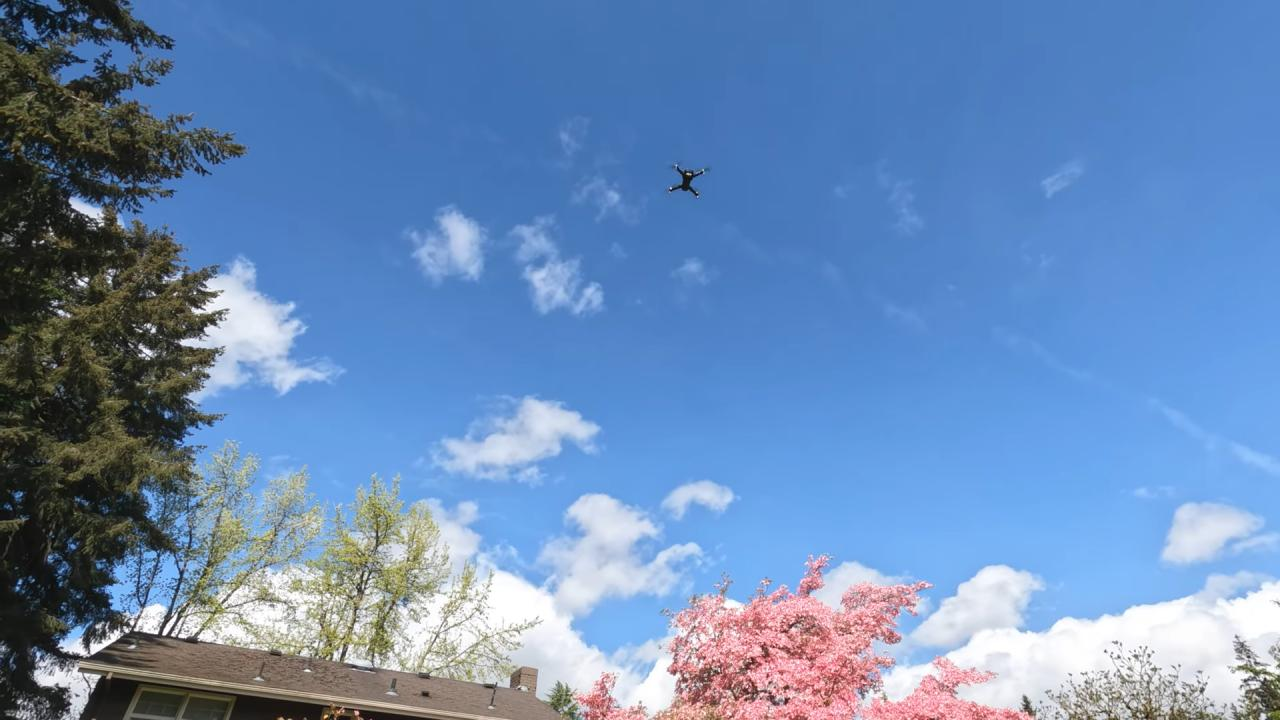Drone: (658, 156, 719, 207)
